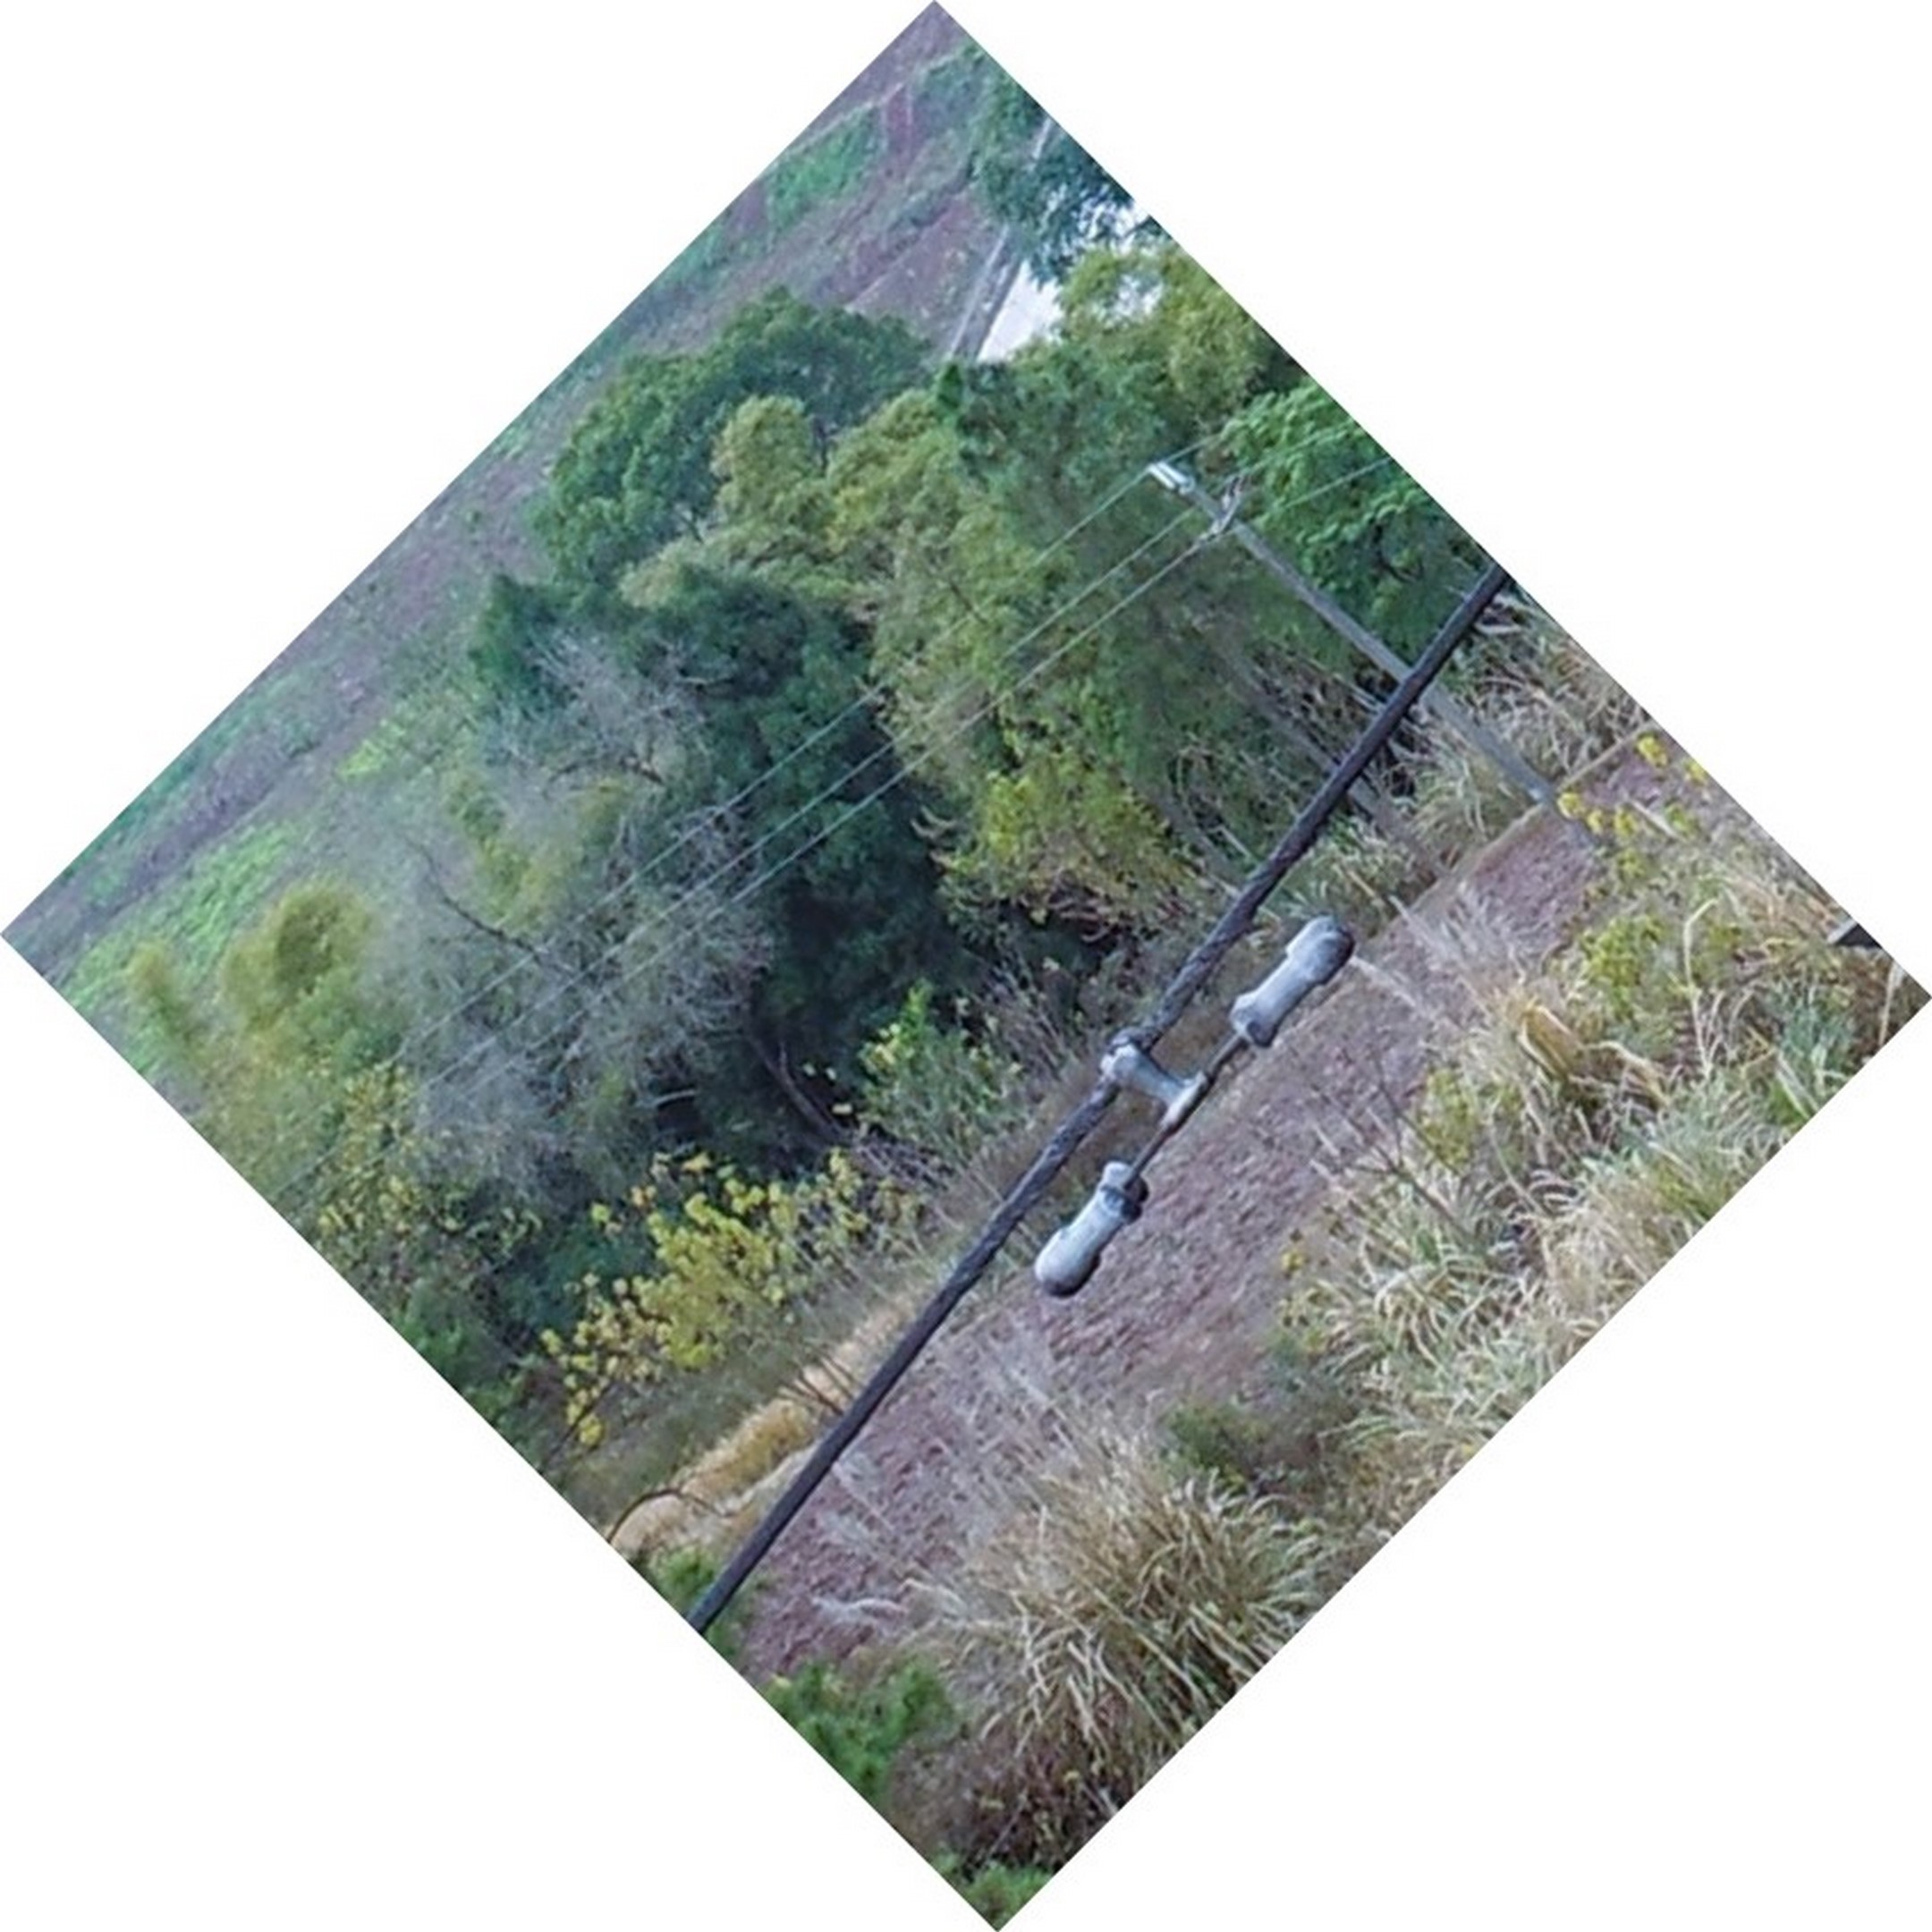Shockproof hammer: (984, 897, 1378, 1316)
